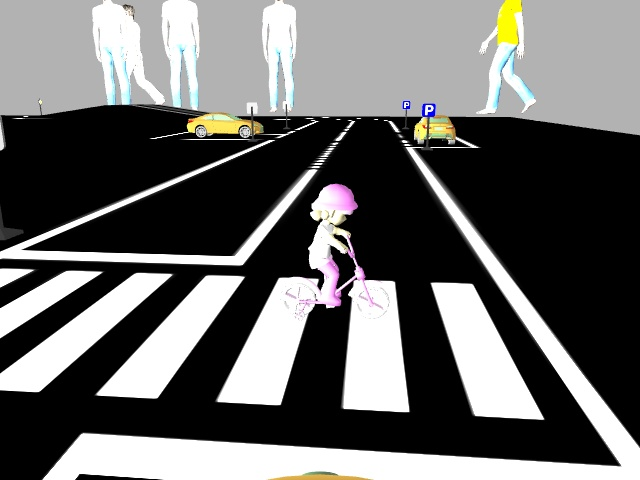Parking: (418, 100, 437, 117), (401, 96, 413, 110)
Pedestrian: (274, 182, 400, 320)
